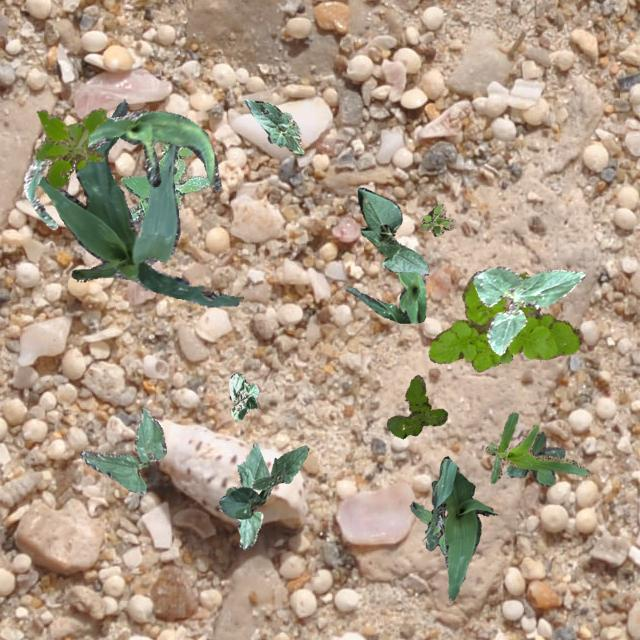crop: (38, 98, 242, 306), (22, 110, 220, 228), (424, 456, 496, 598), (471, 266, 584, 354), (80, 406, 166, 494), (484, 410, 588, 482), (218, 444, 308, 518), (357, 186, 428, 274), (224, 441, 268, 548), (344, 270, 426, 322), (244, 98, 302, 154), (228, 372, 258, 419)
weed: (428, 272, 580, 370), (120, 140, 210, 220), (31, 106, 106, 188), (386, 373, 446, 438), (504, 431, 564, 485), (408, 480, 446, 556), (420, 202, 454, 235)
